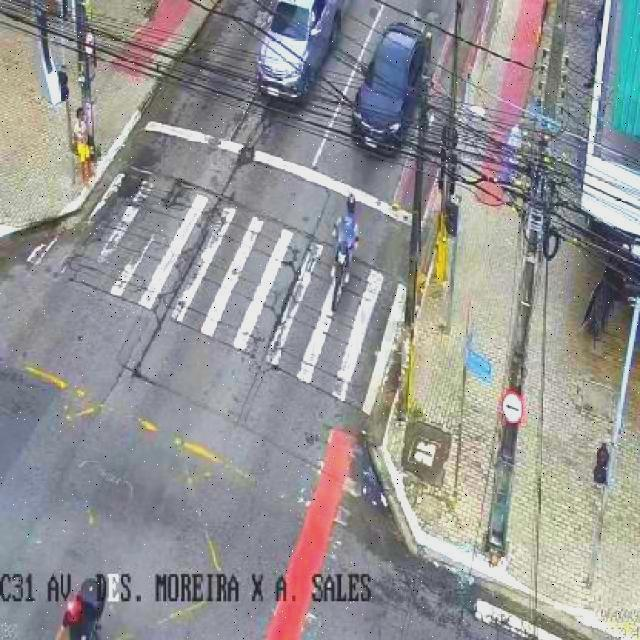Car: (349, 20, 434, 154), (255, 0, 344, 101)
Cycle: (329, 233, 360, 308)
